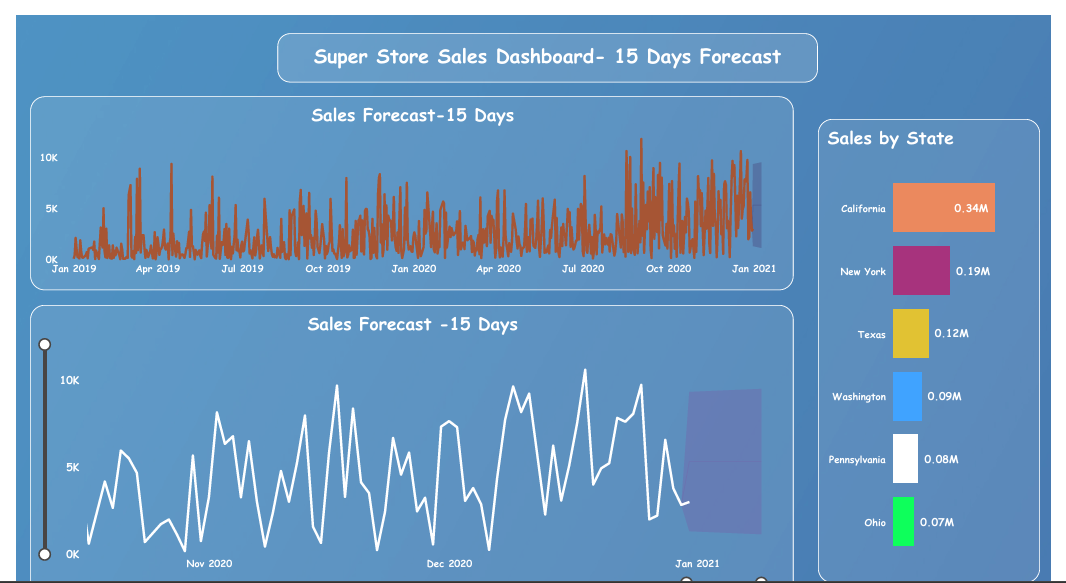

The dashboard page shown, as its layout file describes it:
{"tool":"powerbi","page":{"name":"Page 2","canvas":[1280,720],"ordinal":1},"visuals":[{"type":"lineChart","title":"Sales Forecast-15 Days","fields":{"Y":["Sum(SuperStore_Sales_Dataset.Sales)"],"Category":["SuperStore_Sales_Dataset.Order Date"]},"box":[16.7,100,945,240],"z":0},{"type":"lineChart","title":"Sales Forecast -15 Days","fields":{"Y":["Sum(SuperStore_Sales_Dataset.Sales)"],"Category":["SuperStore_Sales_Dataset.Order Date"]},"box":[16.7,358.3,945,361.7],"z":1000},{"type":"barChart","title":"Sales by State","fields":{"Y":["Sum(SuperStore_Sales_Dataset.Sales)"],"Category":["SuperStore_Sales_Dataset.State"]},"box":[991.7,128.3,275,573.3],"z":2000},{"type":"textbox","box":[323.3,21.7,668.3,61.7],"z":2001}]}

Visuals, with their boxes in screenshot pixels (x1, y1, x2, y2), scaled from the page's 1280x720 canvas onto the 1066x583 screenshot:
"Sales Forecast-15 Days" lineChart: x1=14, y1=81, x2=801, y2=275
"Sales Forecast -15 Days" lineChart: x1=14, y1=290, x2=801, y2=582
"Sales by State" barChart: x1=826, y1=104, x2=1055, y2=568
textbox: x1=269, y1=18, x2=826, y2=68
